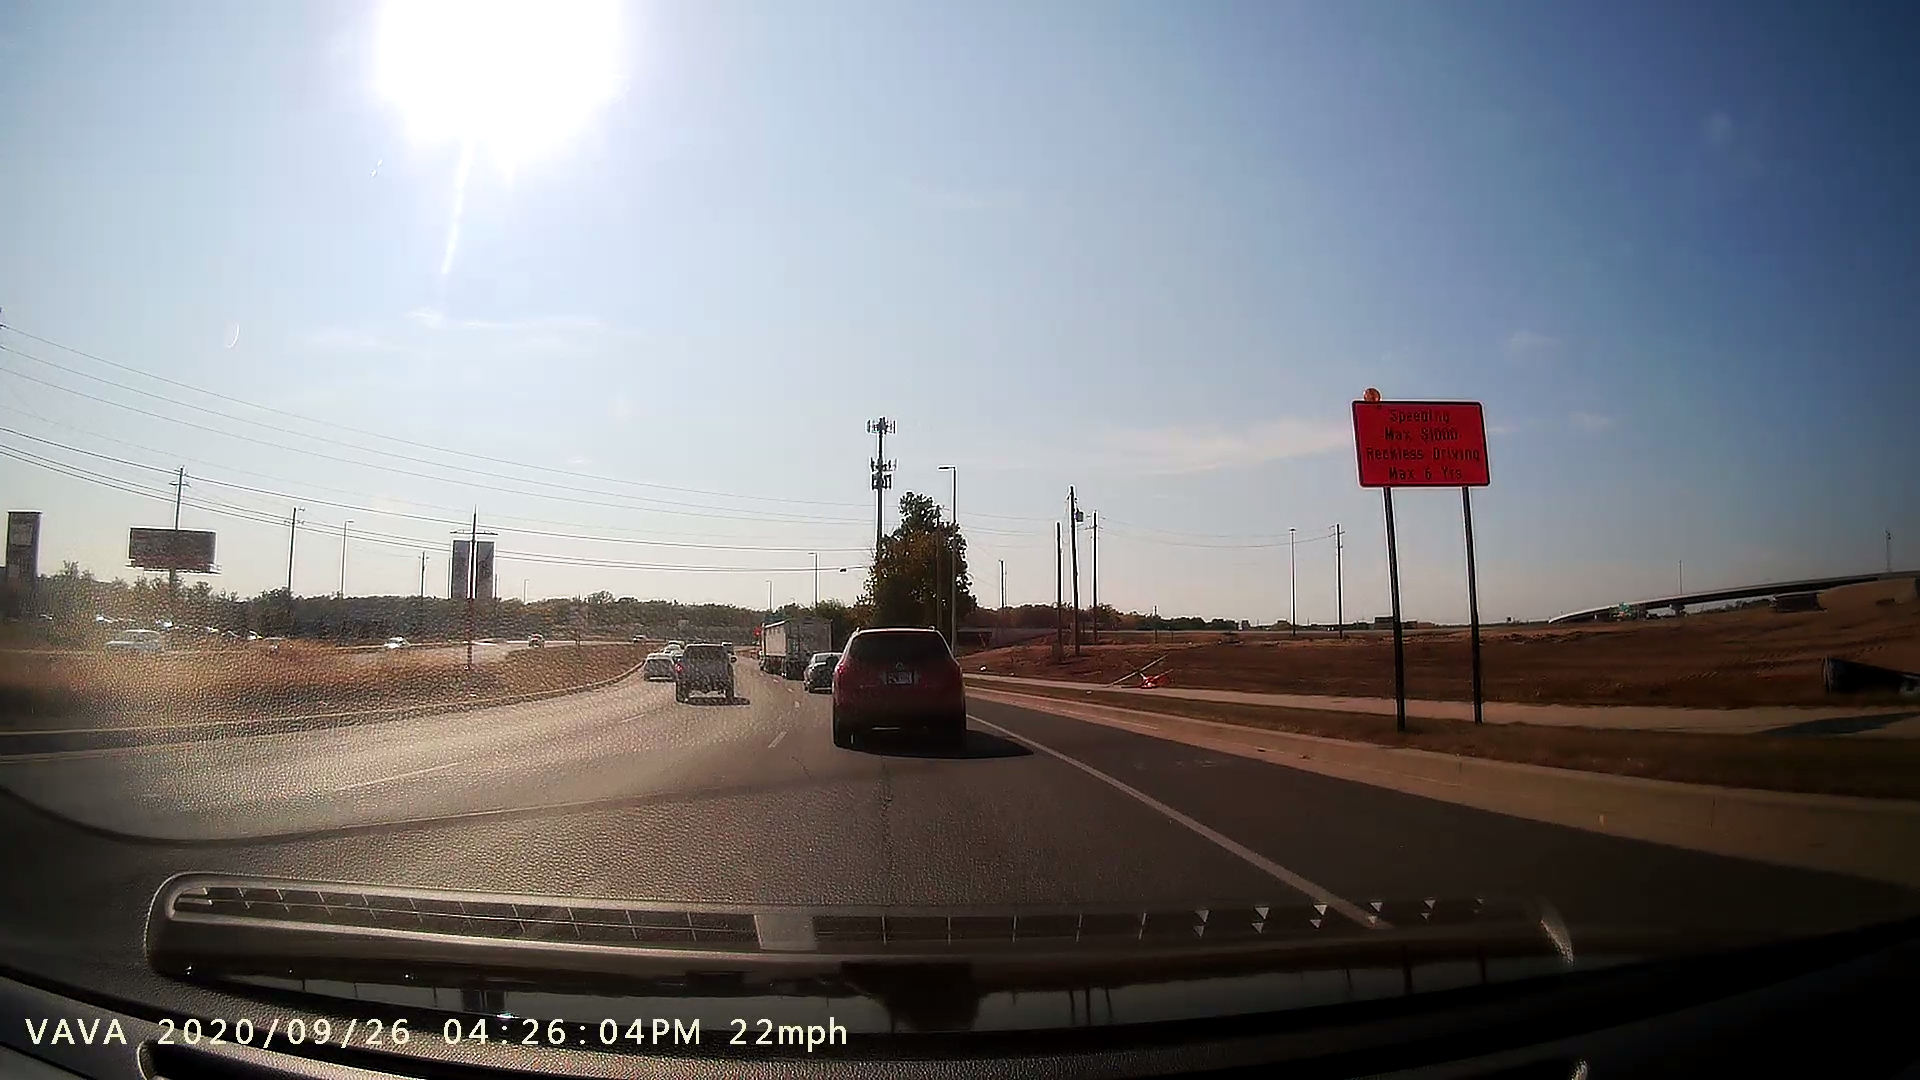temperary_sign: (1338, 377, 1499, 729)
